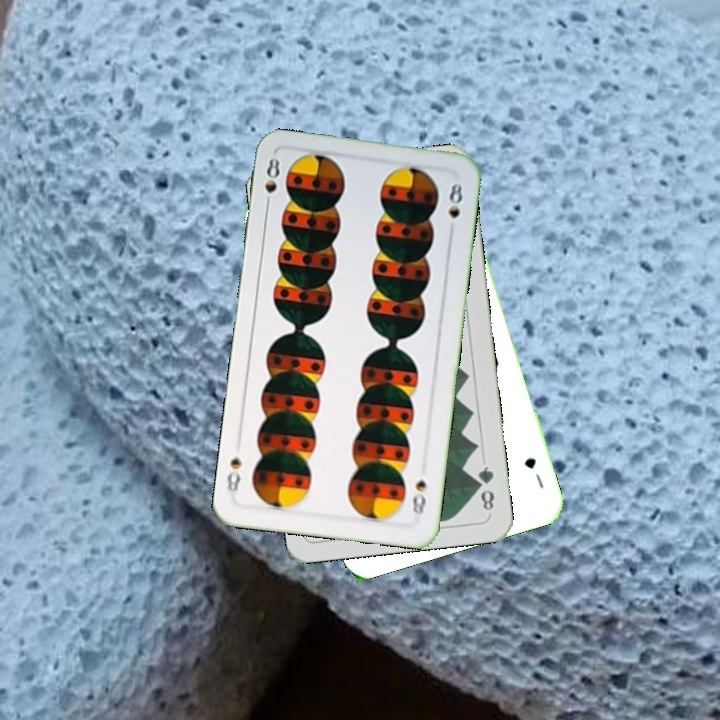G8: (473, 462, 497, 513)
GU: (519, 453, 547, 491)
S8: (260, 153, 282, 212), (408, 476, 429, 519)
